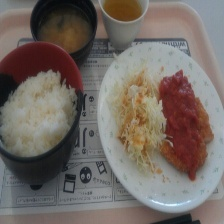dal: (33, 1, 95, 52)
